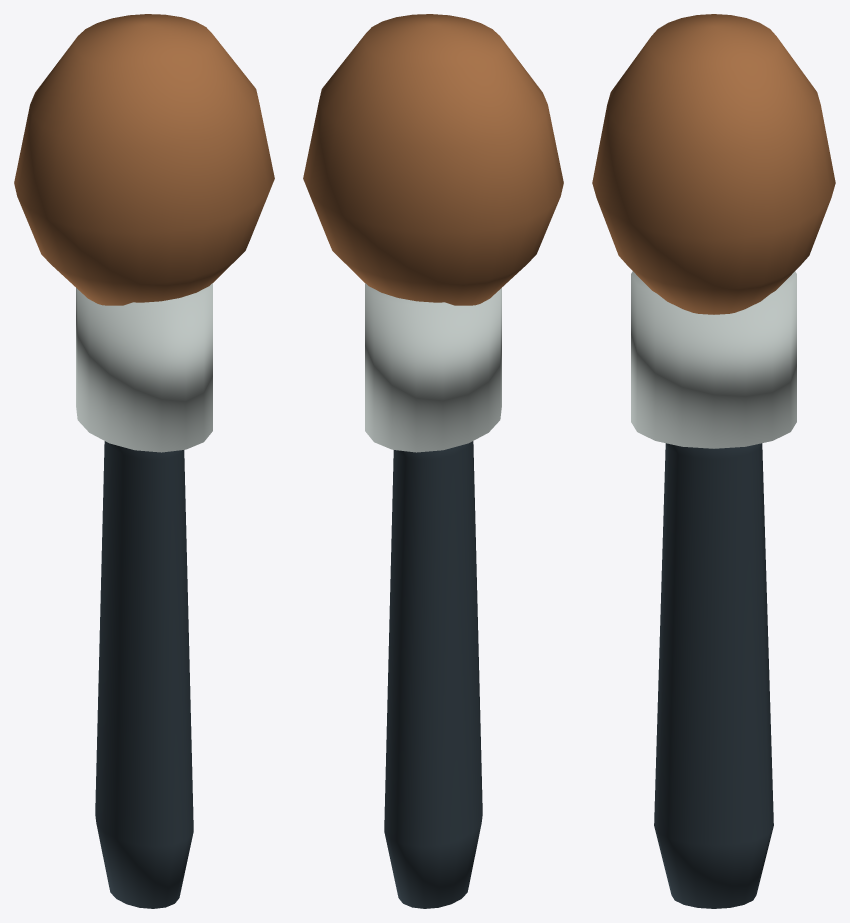
Rendered from P088_powder_brush_rebuilt.glb.
3 renders of one model, left to right at view 1: azimuth 30°, elevation 25°; view 2: azimuth 150°, elevation 25°; view 3: azimuth 270°, elevation 25°, orthographic.
Parts seen in each view (by area): view 1: wood, shell, silver; view 2: wood, shell, silver; view 3: wood, shell, silver.
Part boxes in pixels (x1,y1,x2,y2): wood: [14, 14, 274, 305]; shell: [95, 441, 193, 908]; silver: [76, 283, 212, 452]; wood: [303, 14, 563, 305]; shell: [384, 441, 482, 908]; silver: [365, 283, 501, 452]; wood: [592, 14, 835, 314]; shell: [654, 443, 773, 908]; silver: [631, 271, 796, 448].
Bounding box in the file's own units: 0.068 × 0.244 × 0.062.
